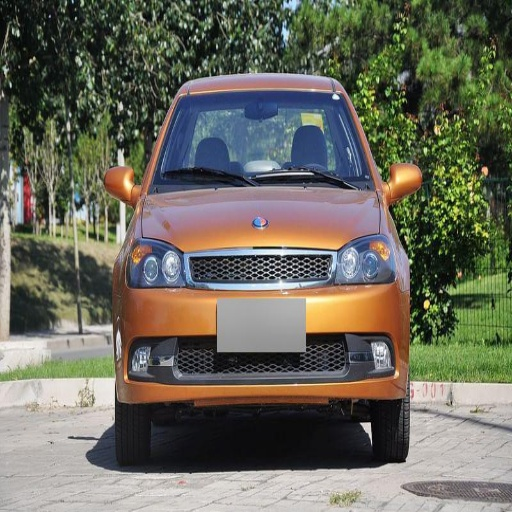front_bumper: (122, 250, 407, 403)
front_right_light: (125, 239, 184, 287)
hood: (139, 186, 381, 253)
left_mirror: (385, 163, 422, 204)
